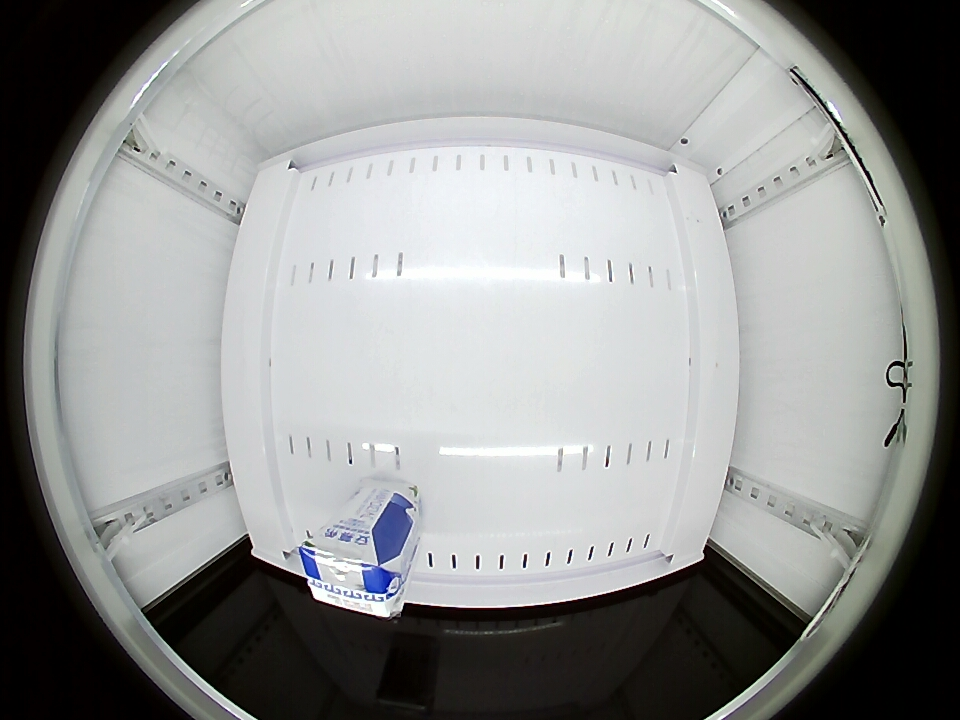anmuxi: (300, 526, 404, 619)
